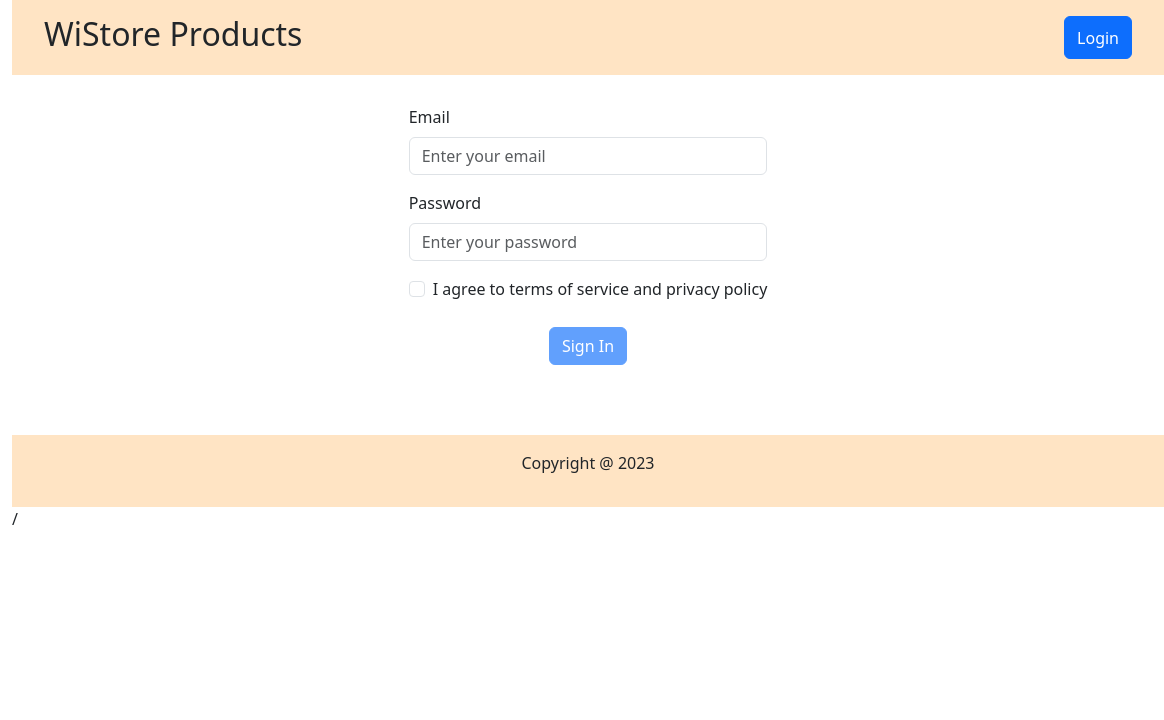
Test: Email yanlış doldurulunca hata mesajı görünüyor
Click the button "Login".
click(1098, 38)  # box [1064,16,1132,59]
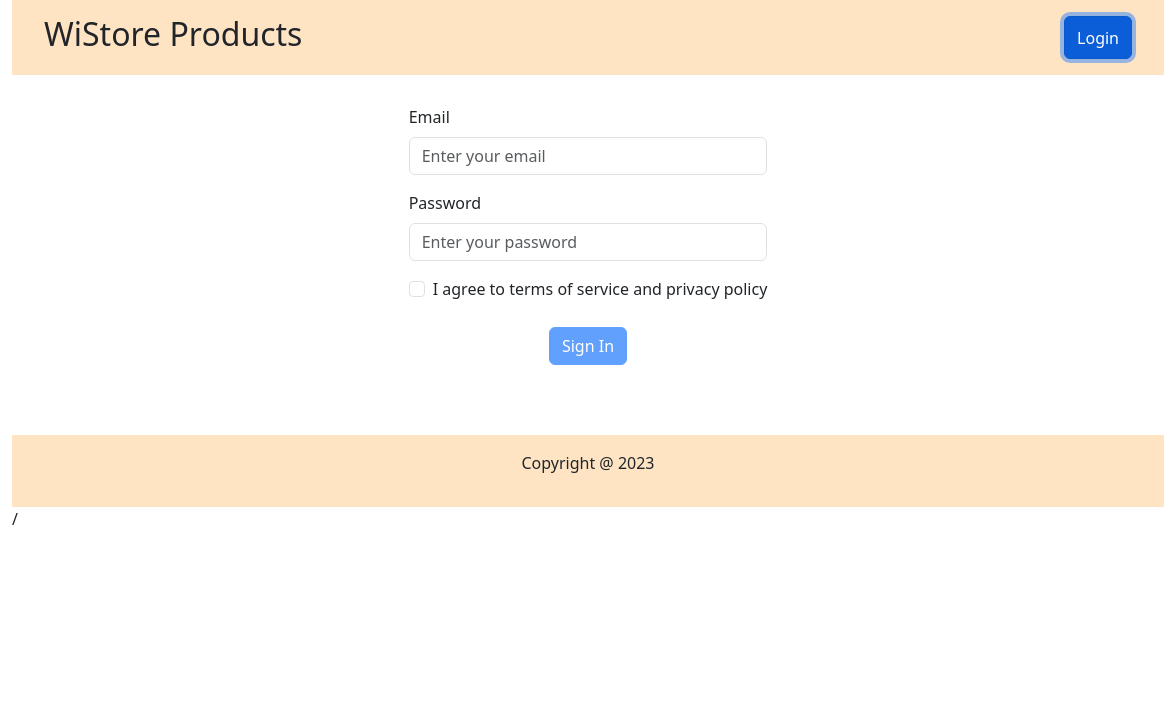
Type "erdem@wit" into the field with placeholder "Enter your email".
click(588, 156); type("erdem@wit")  # box [409,137,767,175]
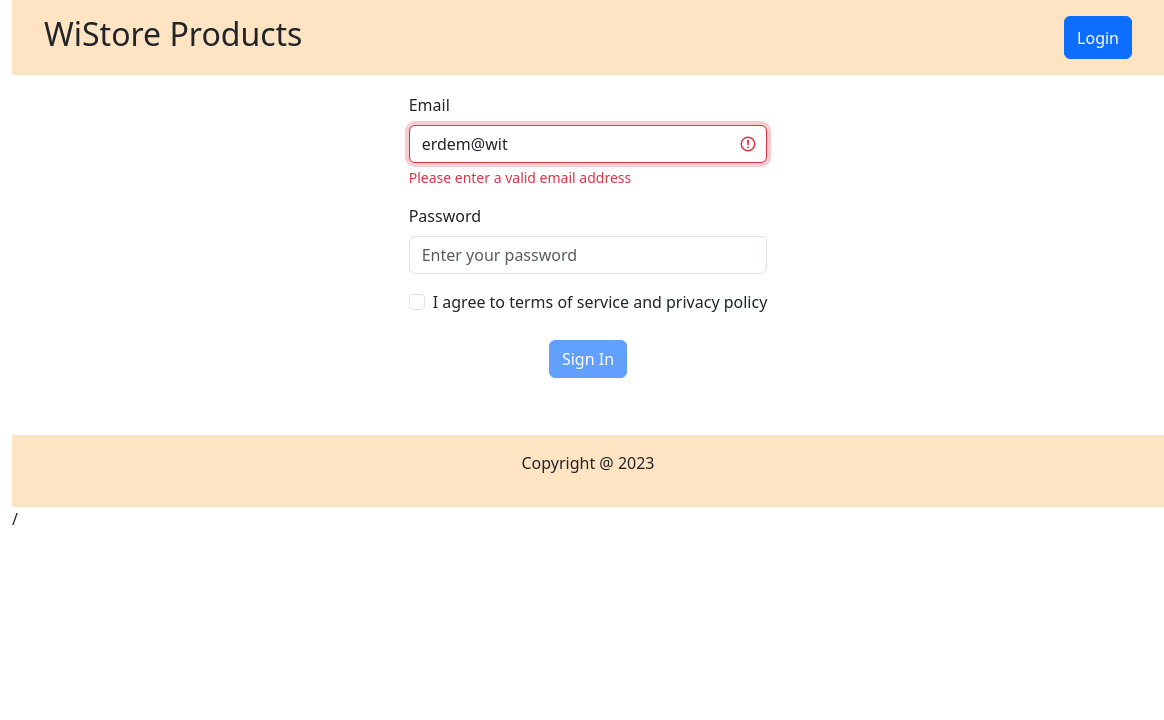
Result: the text "Please enter a valid email address" is shown at [409,168,631,187]
